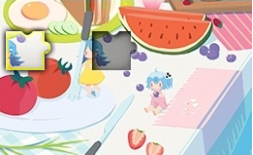gap: (92, 31, 138, 70)
